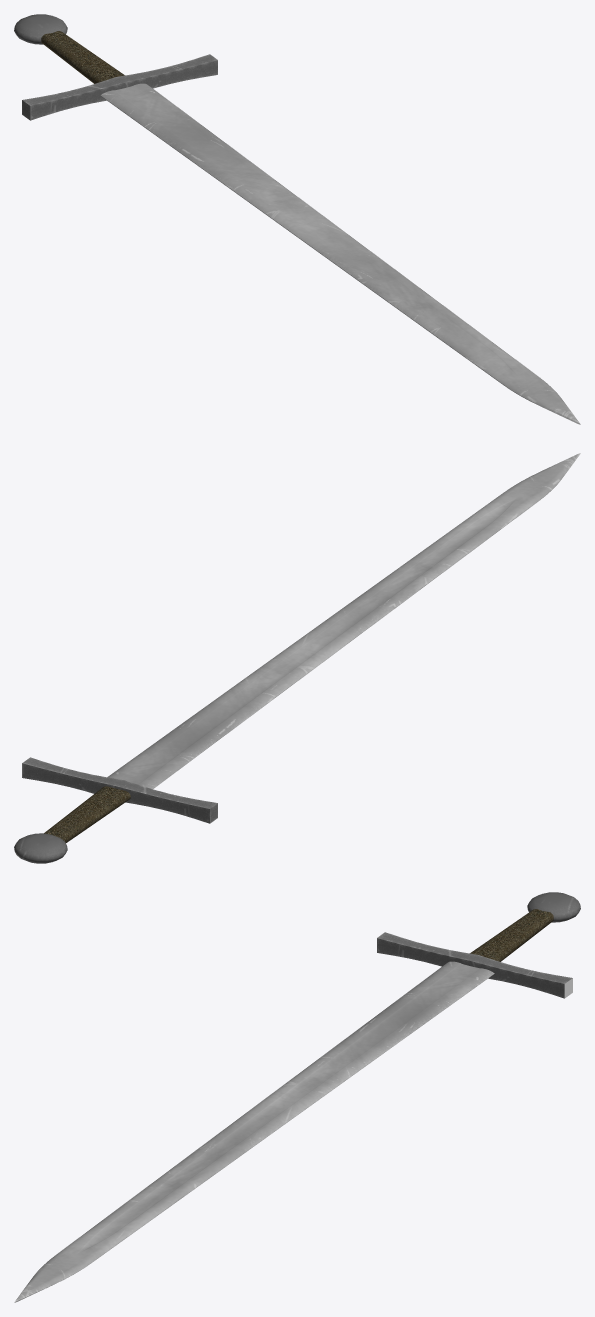
File: Sword  Basic.fbx
The picture shows the model from 3 angles, top to bottom: view 1: azimuth 30°, elevation 25°; view 2: azimuth 150°, elevation 25°; view 3: azimuth 330°, elevation 25°; orthographic projection.
Visible parts, largest first — view 1: Sword, Guard, Handle, Head; view 2: Sword, Guard, Handle, Head; view 3: Sword, Guard, Handle, Head.
Part boxes in pixels (x1,y1,x2,y2): Sword: [100, 83, 580, 424]; Guard: [22, 54, 217, 120]; Handle: [41, 31, 124, 83]; Head: [14, 14, 67, 44]; Sword: [107, 453, 580, 789]; Guard: [22, 757, 217, 823]; Handle: [44, 786, 130, 842]; Head: [14, 833, 67, 863]; Sword: [14, 961, 494, 1302]; Guard: [377, 932, 572, 998]; Handle: [470, 909, 553, 961]; Head: [527, 892, 580, 922].
Size of the model in its own units: 20 by 1.91 by 102.
Materials: 4 (4 with a texture image).
